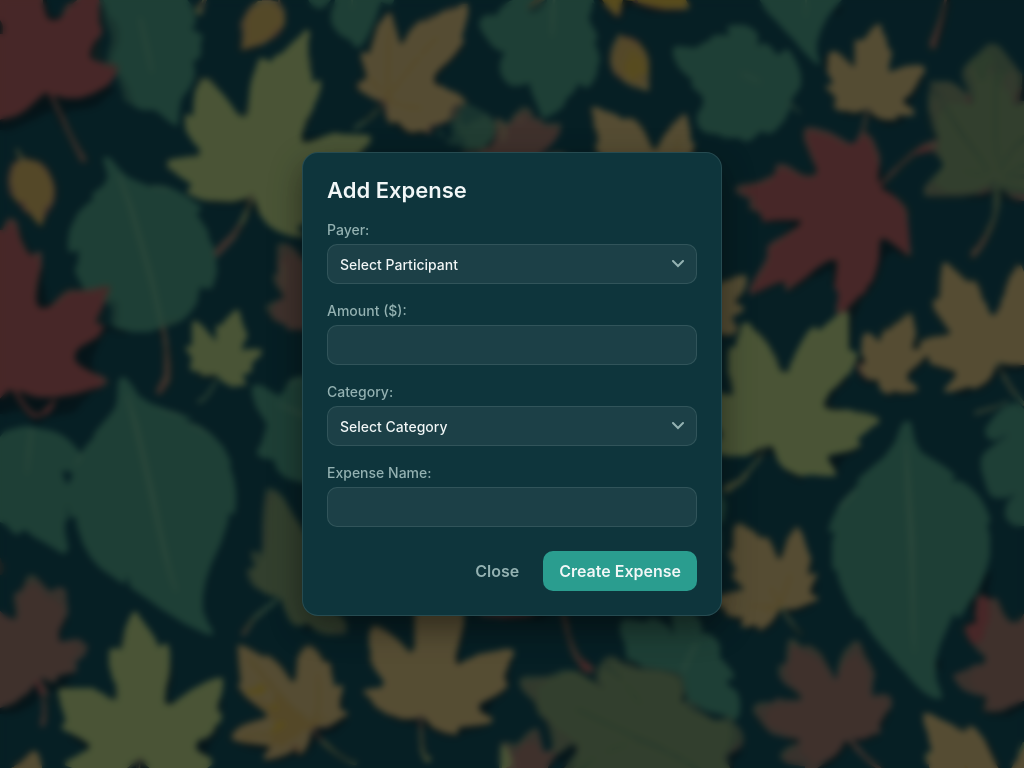
Test: AddExpense › shows an inline error and does not submit when fields are missing
Click the button "Create Expense": {"x": 620, "y": 571} [543, 551, 697, 591]
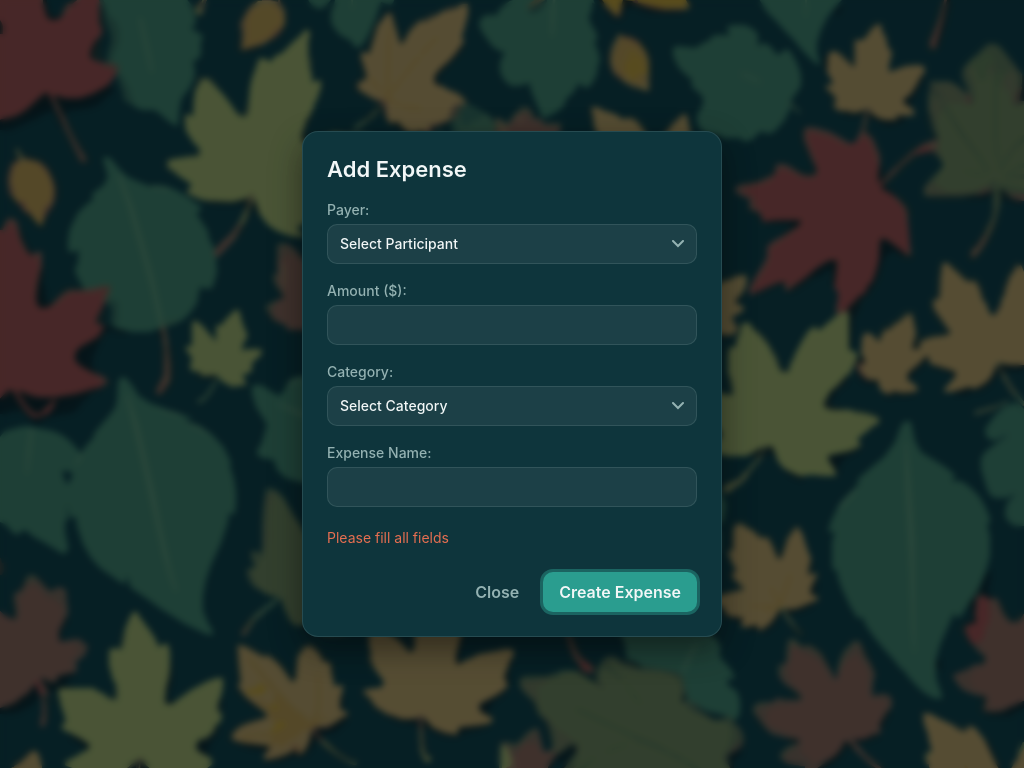
Expected: the text "Please fill all fields" is shown, [327, 529, 449, 546]
